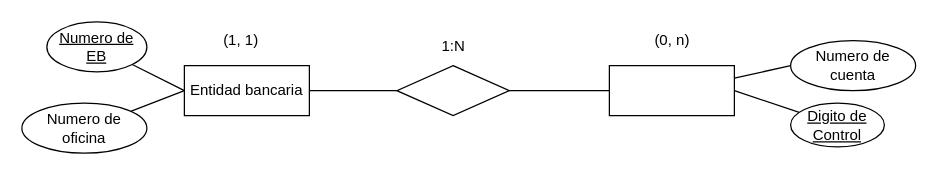
Some shapes in this 938 by 175 pixel diagram are drawn without their labels. The shapes that lost their labels are listed below. From the top down, each one's centre as x and y in pixels, then its label:
At point 452,90: "Tiene".
At point 671,90: "Cuenta".
